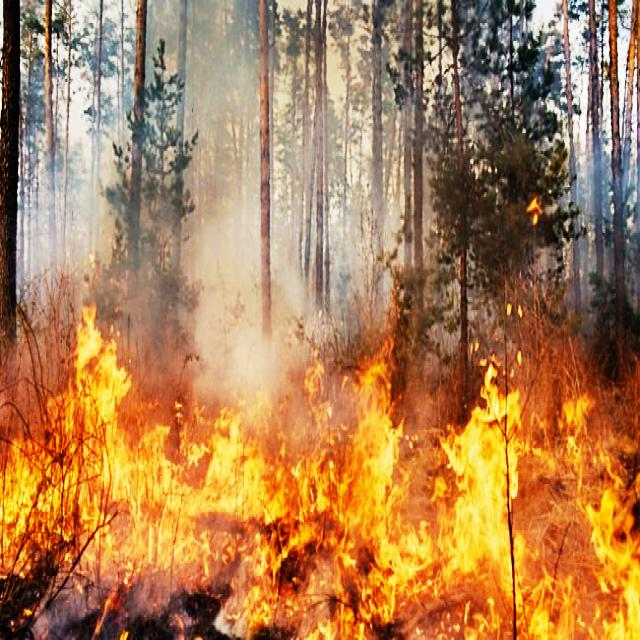api: (159, 412, 320, 636), (317, 410, 441, 640), (56, 336, 152, 588), (437, 403, 536, 640), (2, 433, 62, 594), (589, 467, 640, 640), (537, 553, 582, 640), (357, 357, 403, 426), (565, 381, 590, 495), (483, 361, 526, 416), (307, 363, 334, 421)
asap: (183, 16, 267, 264), (179, 258, 283, 416), (105, 240, 177, 339)
